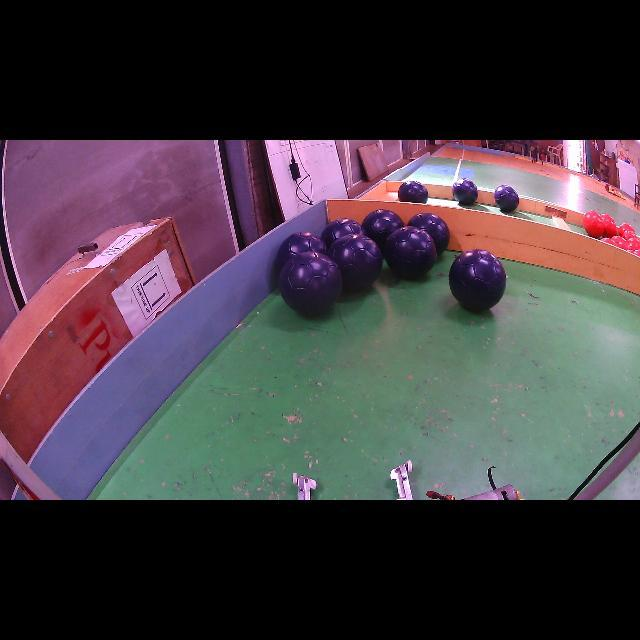B: (279, 251, 342, 315), (449, 249, 506, 311), (326, 234, 382, 290), (384, 226, 436, 279), (278, 231, 326, 269), (361, 209, 404, 251), (408, 212, 450, 254), (320, 219, 366, 248), (398, 180, 429, 204), (452, 179, 478, 205), (494, 185, 519, 212)
R: (582, 210, 605, 238), (600, 214, 616, 238), (611, 236, 629, 250), (619, 222, 634, 236), (628, 238, 640, 251), (622, 230, 636, 240), (601, 238, 618, 246), (630, 249, 640, 256)
